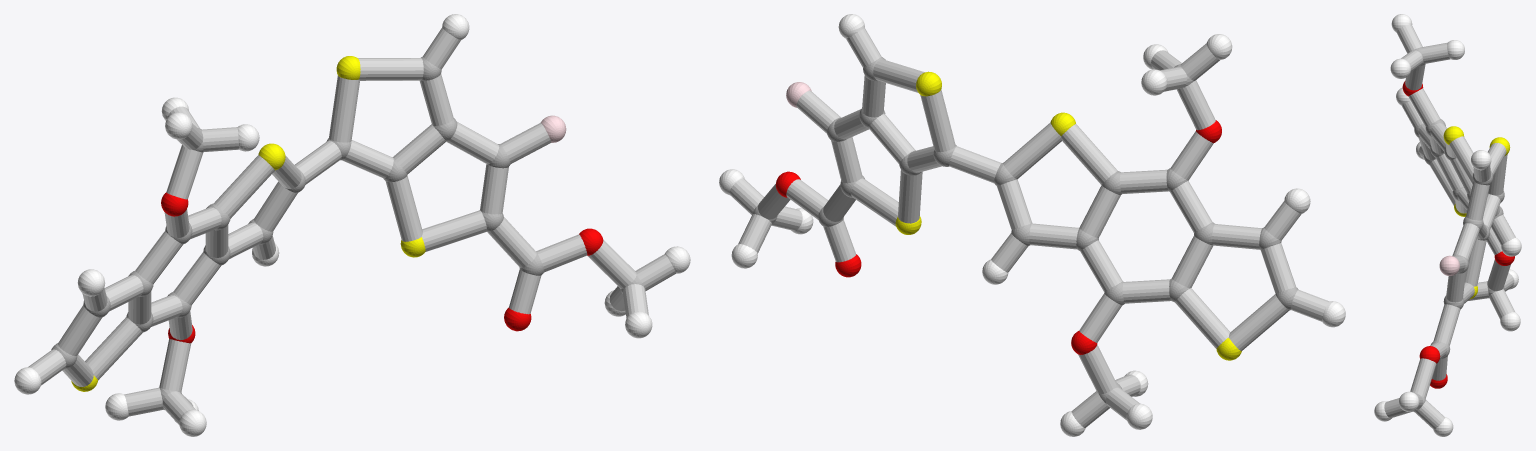
The model's file is Dimethoxy_Benzodithiophene_Phi_25_Theta_140_Methylcarbonyl_3_Fluoro_Thienothiophene.glb.
3 renders of one model, left to right at view 1: azimuth 30°, elevation 25°; view 2: azimuth 150°, elevation 25°; view 3: azimuth 270°, elevation 25°, orthographic. The views are drawn at different scales.
Parts seen in each view (by area): view 1: grp15205, grp8689, grp1, grp13395, grp7241; view 2: grp15205, grp8689, grp1, grp7241, grp13395; view 3: grp15205, grp8689, grp1, grp13395, grp7241, grp14843.
Part boxes in pixels (left/top/right/bottom): grp15205: left=28, top=28, right=675, bottom=425; grp8689: left=14, top=14, right=690, bottom=436; grp1: left=51, top=56, right=643, bottom=409; grp13395: left=161, top=192, right=603, bottom=343; grp7241: left=71, top=56, right=425, bottom=391; grp15205: left=729, top=28, right=1329, bottom=427; grp8689: left=719, top=14, right=1345, bottom=436; grp1: left=752, top=57, right=1298, bottom=403; grp7241: left=895, top=71, right=1241, bottom=360; grp13395: left=776, top=120, right=1221, bottom=354; grp15205: left=1384, top=24, right=1515, bottom=429; grp8689: left=1374, top=14, right=1521, bottom=436; grp1: left=1413, top=47, right=1504, bottom=411; grp13395: left=1402, top=81, right=1514, bottom=388; grp7241: left=1443, top=126, right=1510, bottom=298; grp14843: left=1439, top=255, right=1459, bottom=275.
Size of the model in its own units: 16.68 by 9.26 by 4.31.
